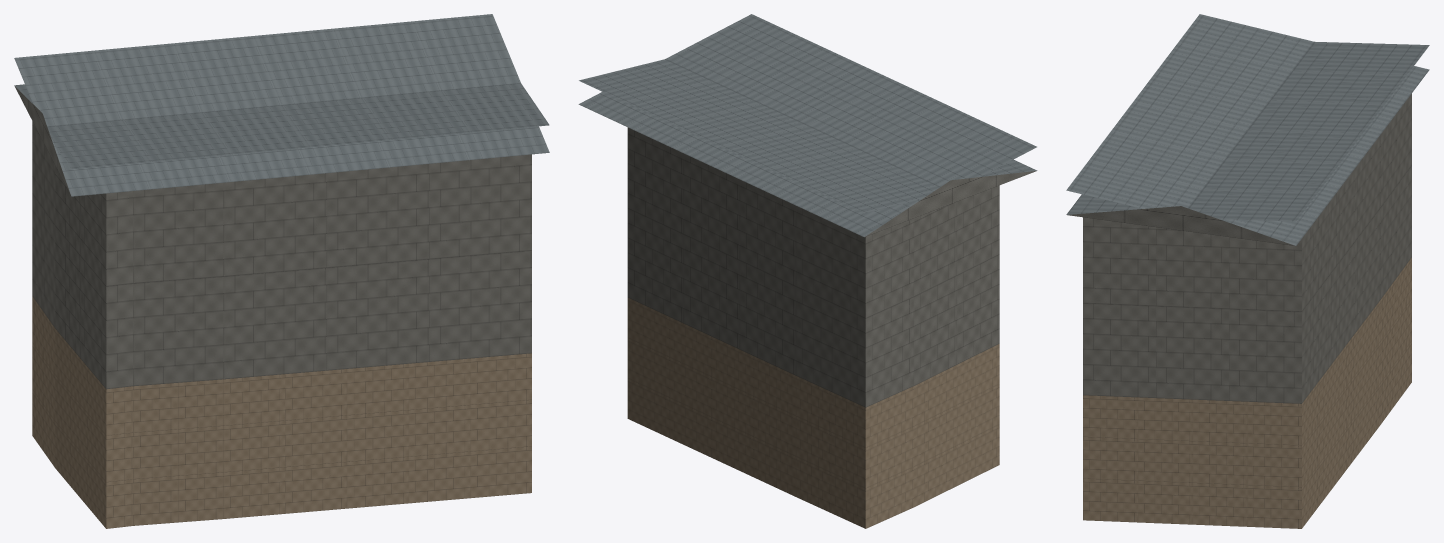
The model's file is bld_c18_22_443.gltf.
The picture shows the model from 3 angles, left to right: view 1: azimuth 30°, elevation 25°; view 2: azimuth 150°, elevation 25°; view 3: azimuth 270°, elevation 25°; orthographic projection. The views are drawn at different scales.
Visible parts, largest first — view 1: bld_c18_22_443; view 2: bld_c18_22_443; view 3: bld_c18_22_443.
Part boxes in pixels (box(x1,y1,x2,y2)): bld_c18_22_443: box(14, 14, 549, 528); bld_c18_22_443: box(578, 14, 1037, 528); bld_c18_22_443: box(1066, 14, 1429, 528).
Size of the model in its own units: 18.15 by 13.6 by 13.44.
Materials: 4 (4 with a texture image).
